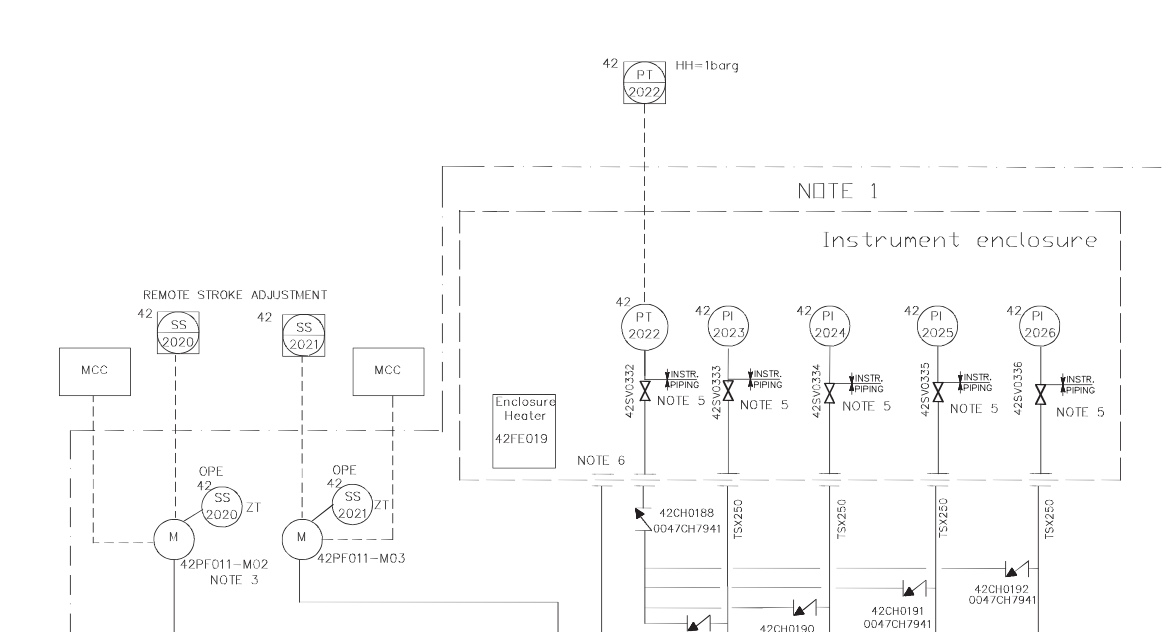Instrument: (611, 293, 676, 358), (1001, 298, 1071, 350), (900, 300, 961, 348), (794, 299, 852, 349), (690, 301, 750, 348), (195, 477, 245, 528), (322, 477, 374, 524)
Instrument-square: (129, 302, 207, 360), (595, 54, 672, 108), (255, 309, 330, 362)
